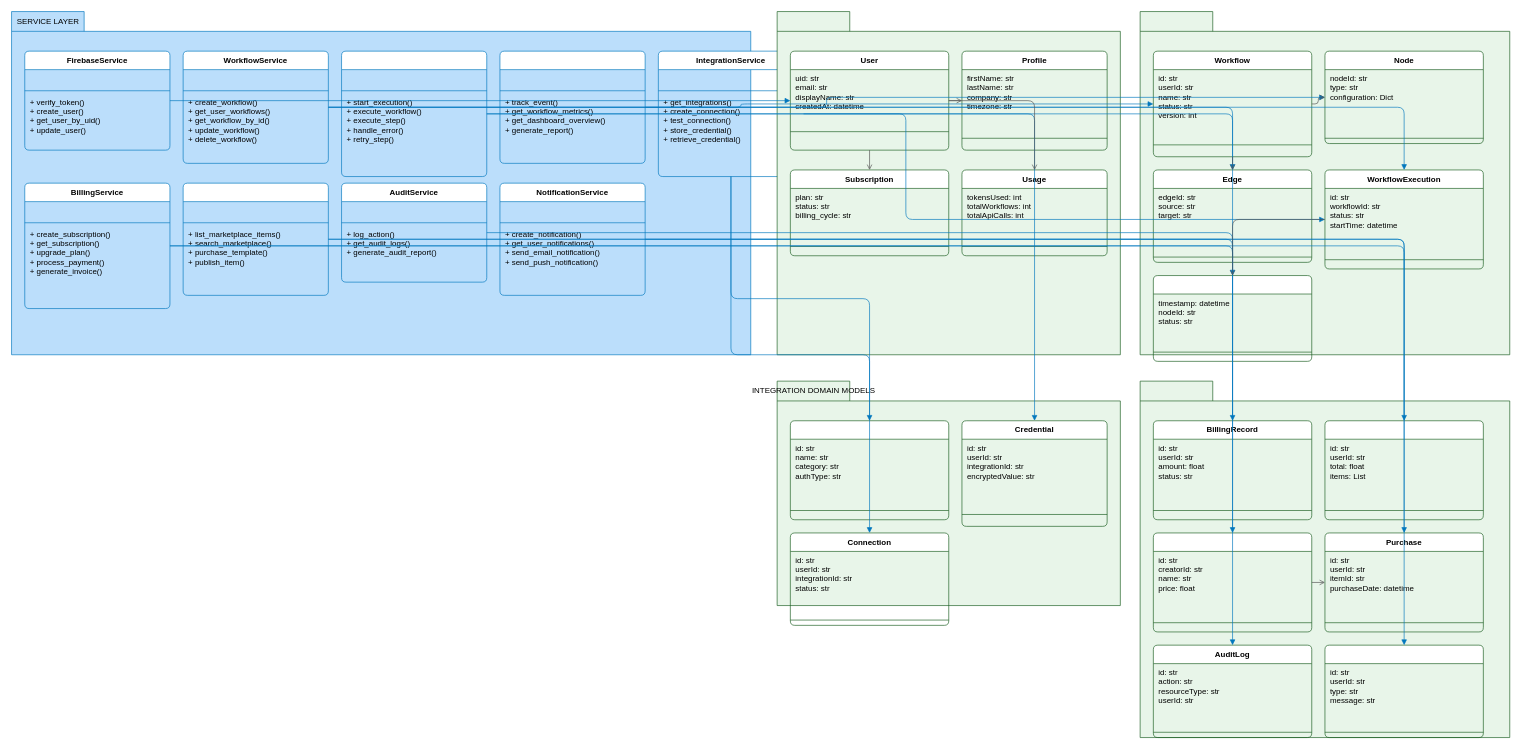
Image size: 1521x753. Some labels were removed from this diagram. Each missing label, with the box of its shape:
AnalyticsService: (499, 50, 645, 163)
BUSINESS DOMAIN MODELS: (1139, 380, 1510, 738)
ExecutionLog: (1153, 275, 1312, 361)
ExecutionService: (341, 50, 487, 177)
Integration: (790, 420, 949, 520)
Invoice: (1324, 420, 1483, 520)
MarketplaceItem: (1153, 532, 1312, 632)
MarketplaceService: (182, 182, 328, 295)
Notification: (1324, 644, 1483, 738)
USER DOMAIN MODELS: (776, 11, 1120, 355)
WORKFLOW DOMAIN MODELS: (1139, 11, 1510, 355)
